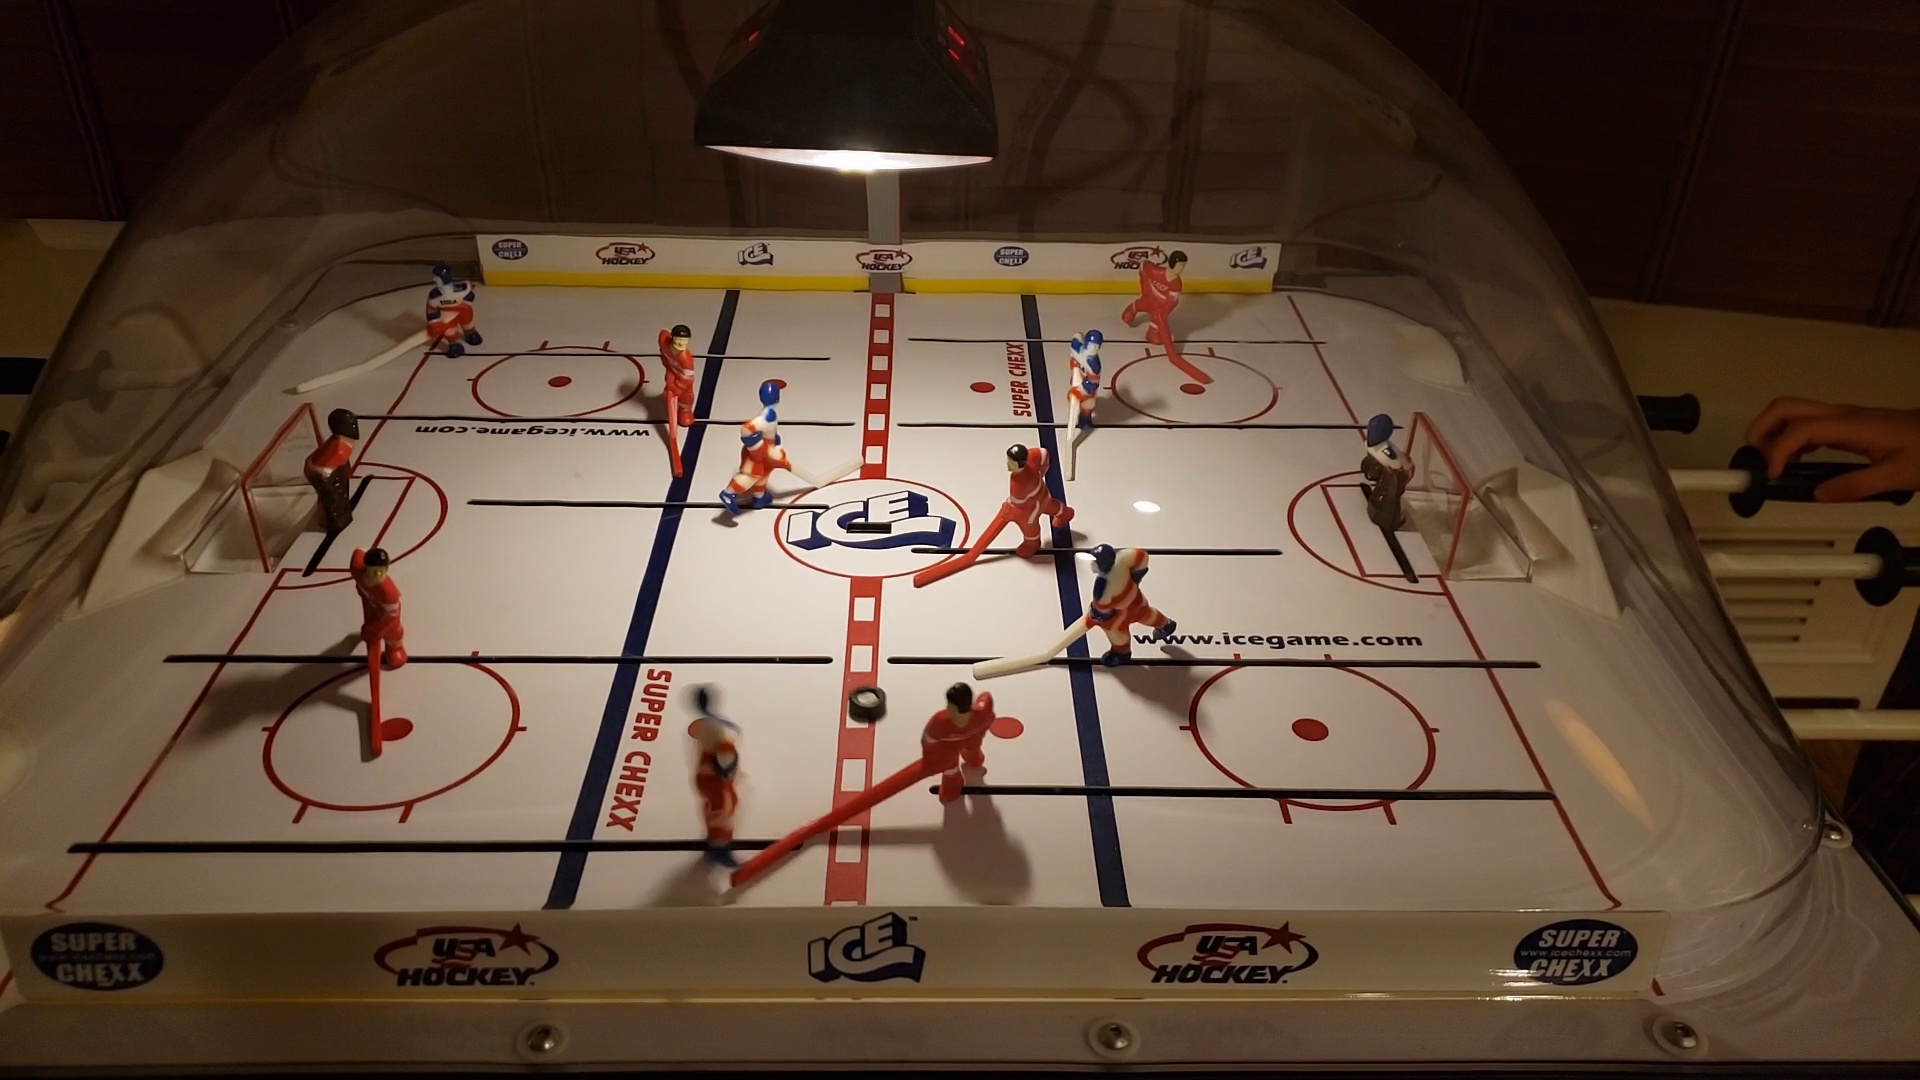puck: (851, 683, 887, 723)
